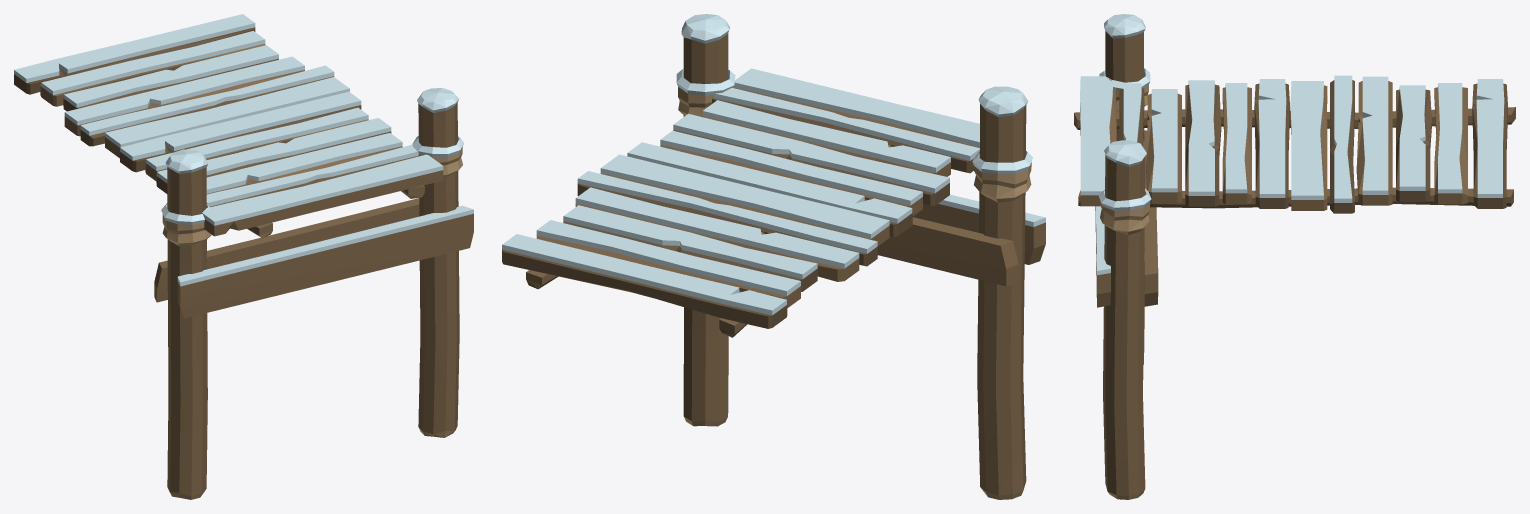
File: Muelle02.glb
3 views of the same model, side by side, from view 1: azimuth 30°, elevation 25°; view 2: azimuth 150°, elevation 25°; view 3: azimuth 270°, elevation 25° (orthographic). The views are drawn at different scales.
Visible parts, largest first — view 1: SM_Prop_Dock_02_Snow; view 2: SM_Prop_Dock_02_Snow; view 3: SM_Prop_Dock_02_Snow.
Boxes of the visible parts, x1,y1,x2,y2 form: SM_Prop_Dock_02_Snow: [14, 14, 473, 499]; SM_Prop_Dock_02_Snow: [502, 14, 1045, 499]; SM_Prop_Dock_02_Snow: [1074, 14, 1515, 499].
Size of the model in its own units: 4.07 by 4.48 by 5.12.
1 material, 1 textured.
